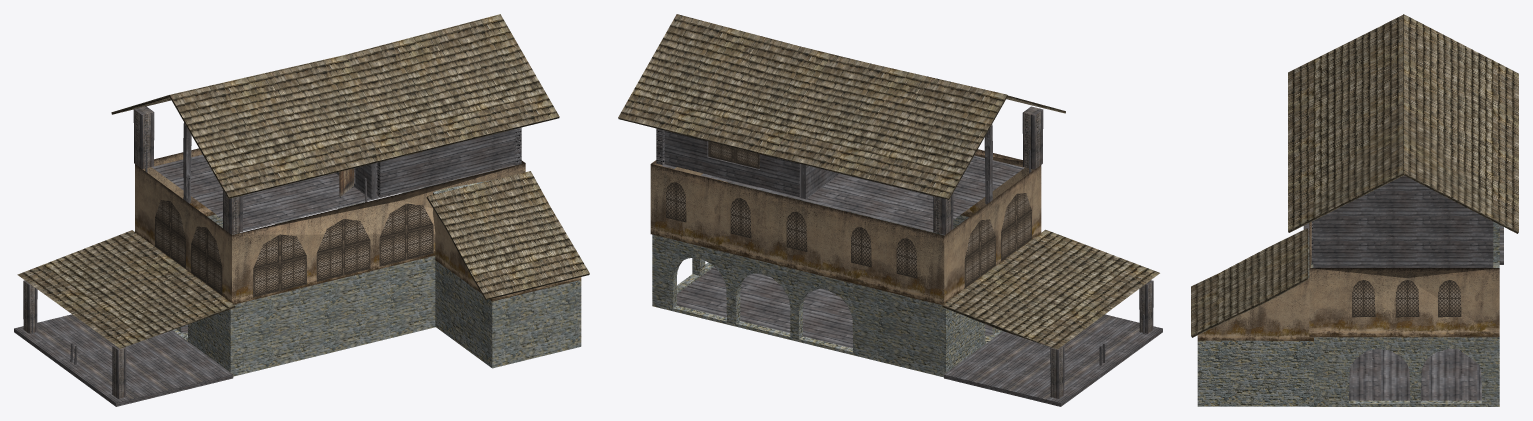
File: tavern_main_LOD2.dae
3 views of the same model, side by side, from view 1: azimuth 30°, elevation 25°; view 2: azimuth 150°, elevation 25°; view 3: azimuth 270°, elevation 25° (orthographic).
Visible parts, largest first — view 1: Default_Layer; view 2: Default_Layer; view 3: Default_Layer.
Part boxes in pixels (bbox=[...]): Default_Layer: bbox=[14, 14, 589, 406]; Default_Layer: bbox=[618, 14, 1162, 406]; Default_Layer: bbox=[1191, 14, 1518, 406].
Bounding box in the file's own units: 33.91 × 18.75 × 22.5.
